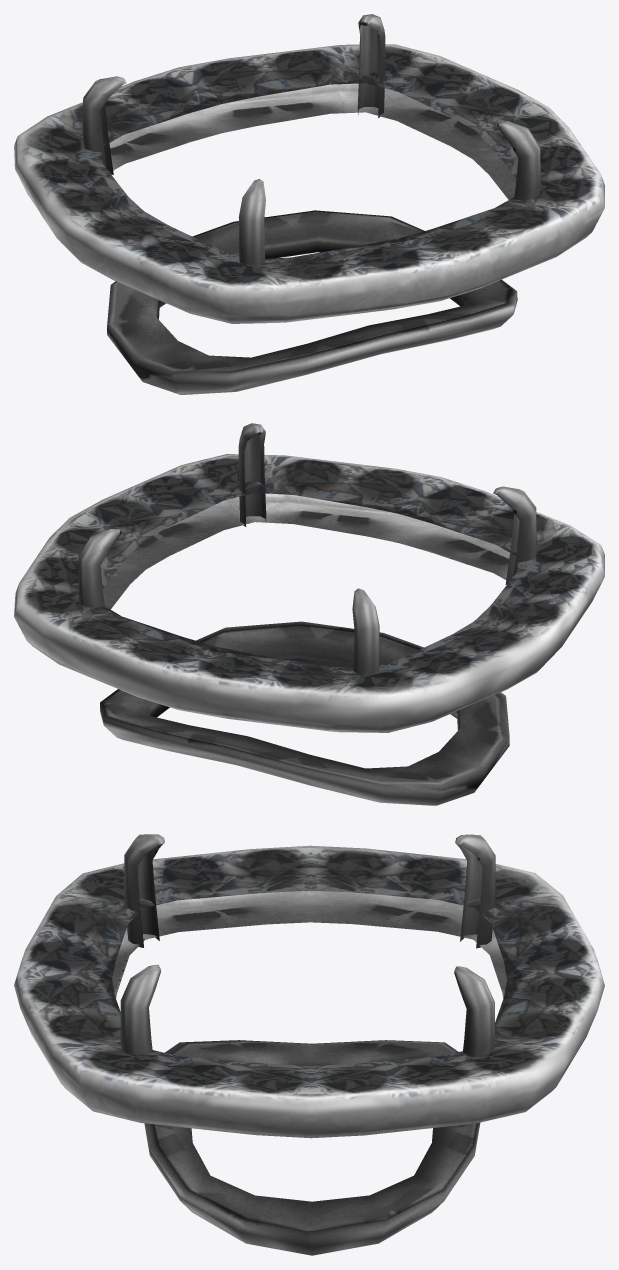
File: zalesRing_frame.obj
3 renders of one model, top to bottom at view 1: azimuth 30°, elevation 25°; view 2: azimuth 150°, elevation 25°; view 3: azimuth 270°, elevation 25°, orthographic. The views are drawn at different scales.
Parts seen in each view (by area): view 1: zalesRing_frame:polySurface63; view 2: zalesRing_frame:polySurface63; view 3: zalesRing_frame:polySurface63.
Part boxes in pixels (box(x1,y1,x2,y2)): zalesRing_frame:polySurface63: box(14, 14, 604, 394); zalesRing_frame:polySurface63: box(14, 423, 604, 805); zalesRing_frame:polySurface63: box(14, 834, 604, 1255).
Size of the model in its own units: 5.04 by 2.43 by 4.9.
1 material, 1 textured.
